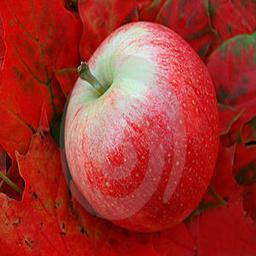apple: (59, 26, 218, 230)
